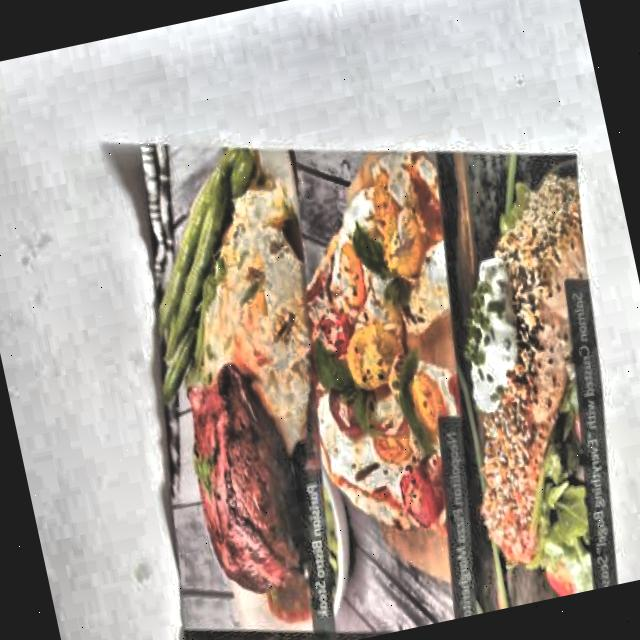paper: (71, 70, 640, 640)
